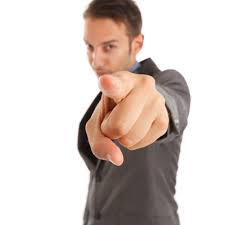hand: (83, 68, 173, 168)
